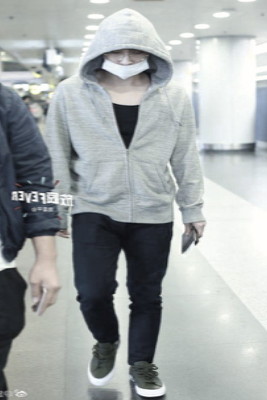mask_weared_incorrect: (101, 47, 149, 80)
